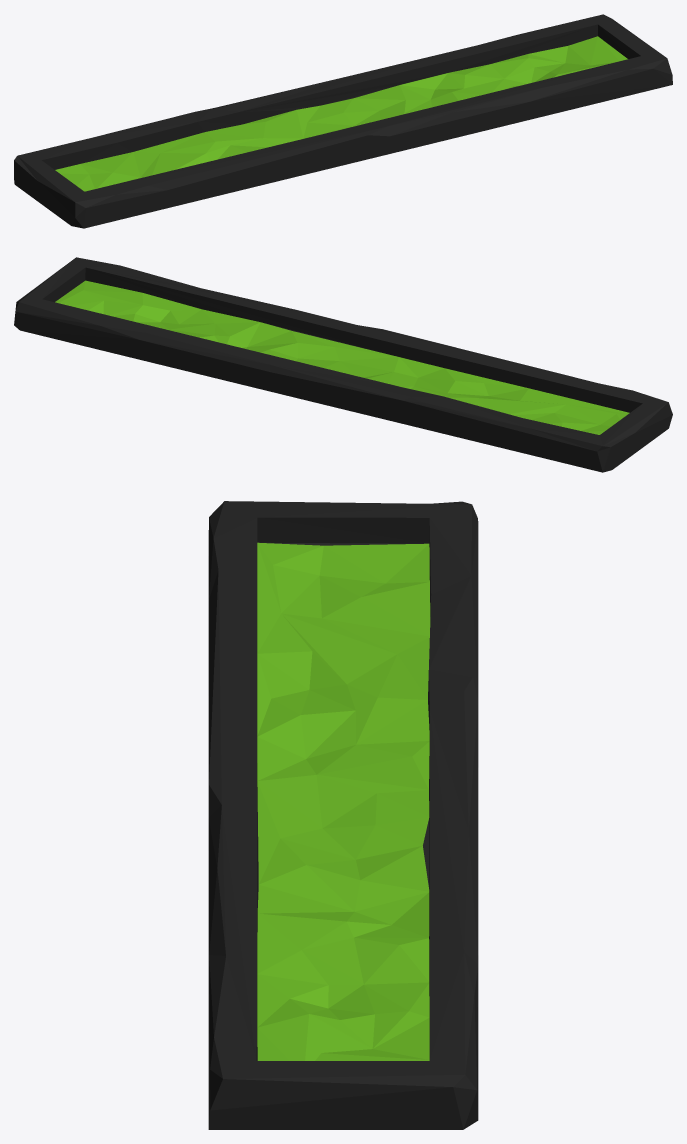
File: street_green_belt_a.FBX
The picture shows the model from 3 angles, top to bottom: view 1: azimuth 30°, elevation 25°; view 2: azimuth 150°, elevation 25°; view 3: azimuth 270°, elevation 25°; orthographic projection. The views are drawn at different scales.
Visible parts, largest first — view 1: street_green_belt_a; view 2: street_green_belt_a; view 3: street_green_belt_a.
Boxes of the visible parts, <box> form: street_green_belt_a: <box>14,14,672,228</box>; street_green_belt_a: <box>14,257,672,472</box>; street_green_belt_a: <box>208,501,478,1129</box>.
Size of the model in its own units: 3001 by 124 by 588.
